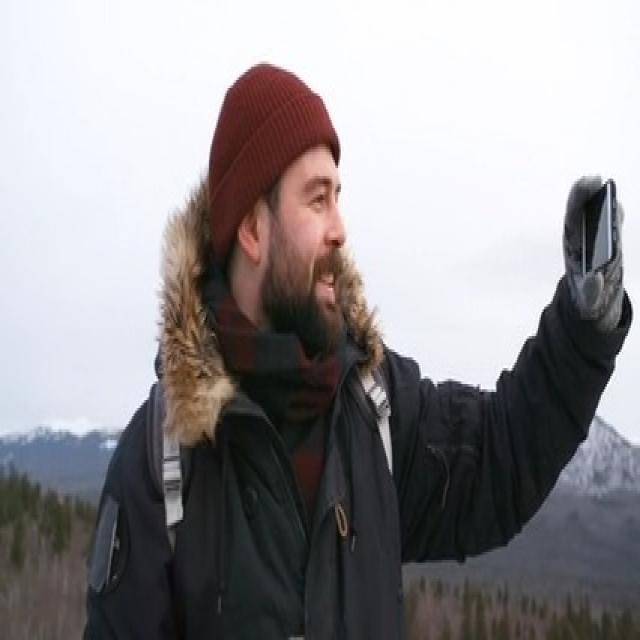Jacket_Wearer: (82, 282, 623, 640)
Person: (78, 55, 624, 640)
